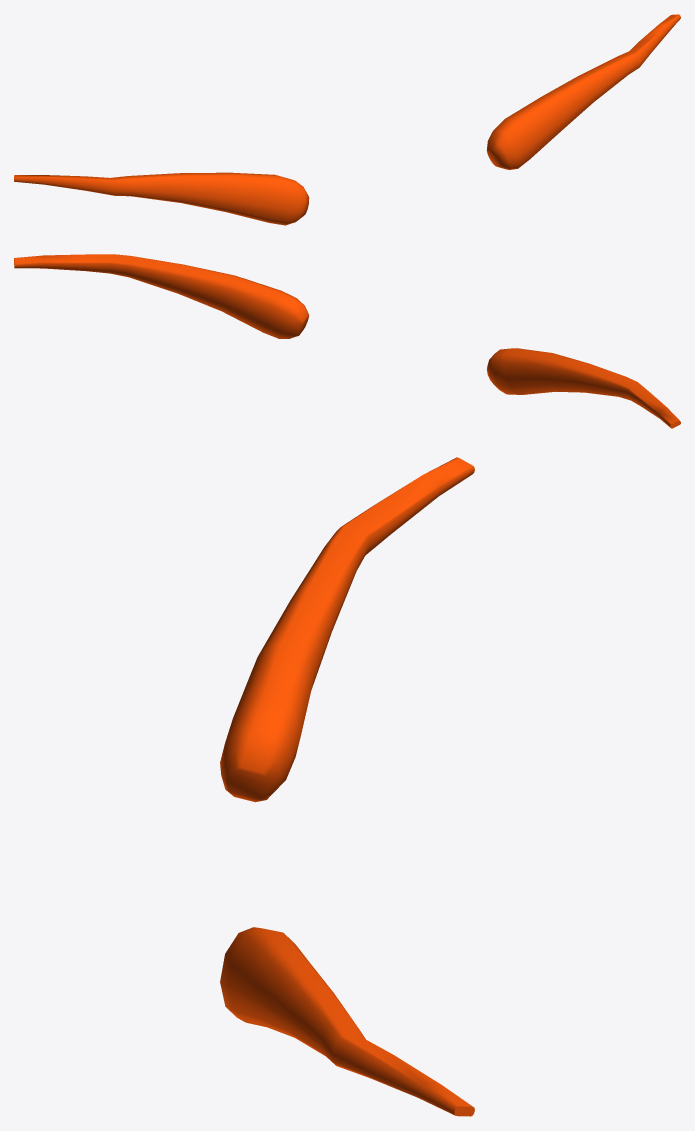
Rendered from Eyebrows_25_06.fbx.
3 views of the same model, one above another, from view 1: azimuth 30°, elevation 25°; view 2: azimuth 150°, elevation 25°; view 3: azimuth 270°, elevation 25° (orthographic). The views are drawn at different scales.
Parts seen in each view (by area): view 1: Eyebrows_25_06; view 2: Eyebrows_25_06; view 3: Eyebrows_25_06.
Part boxes in pixels (x1=…): Eyebrows_25_06: x1=14, y1=14, x2=680, y2=225; Eyebrows_25_06: x1=14, y1=254, x2=680, y2=428; Eyebrows_25_06: x1=220, y1=457, x2=474, y2=1116.
Bounding box in the file's own units: 17.7 × 1.64 × 2.93.
